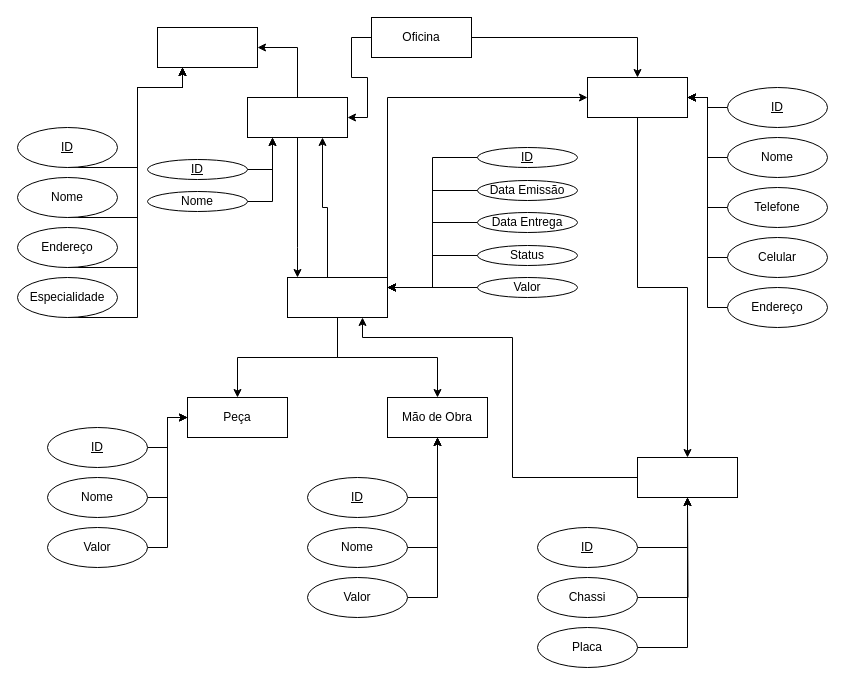
The diagram is 845 pixels wide and 685 high, and some of its shapes have lost their labels. The box of each missing label's shape, as (x1, y1, x2, y2) in pixels:
Cliente: (586, 76, 688, 118)
Equipe: (246, 96, 348, 138)
Mecanico: (156, 26, 258, 68)
Orderm de Serviço: (286, 276, 388, 318)
Veiculo: (636, 456, 738, 498)
